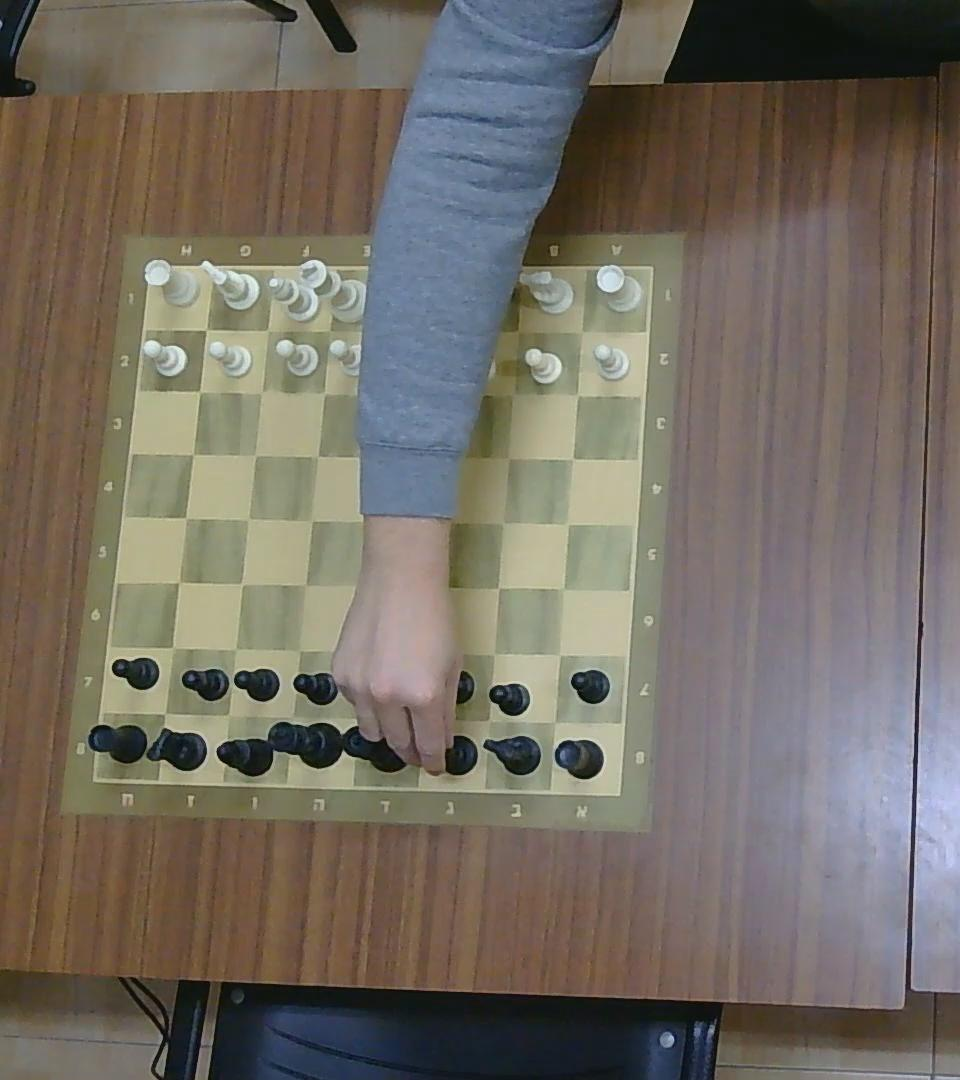xcorner: (336, 711, 367, 743), (438, 314, 466, 346), (151, 698, 180, 728), (370, 322, 403, 348), (357, 505, 386, 534), (410, 709, 439, 738), (285, 635, 313, 664), (568, 316, 596, 345), (423, 505, 451, 534), (418, 572, 446, 601), (363, 442, 391, 471), (366, 380, 394, 409), (476, 706, 504, 734), (416, 640, 443, 669), (563, 379, 590, 407), (215, 699, 241, 728), (353, 572, 379, 601), (354, 640, 380, 669), (542, 708, 569, 735), (550, 573, 576, 601), (228, 568, 254, 596), (480, 640, 506, 668), (432, 441, 458, 469), (556, 508, 581, 537), (317, 314, 342, 343), (222, 633, 247, 662), (193, 314, 218, 343), (160, 633, 185, 662), (558, 445, 584, 472), (311, 377, 336, 405), (444, 378, 468, 407), (406, 378, 430, 407), (235, 504, 260, 531), (305, 442, 330, 469), (547, 641, 572, 668), (256, 315, 281, 342), (166, 568, 191, 595), (505, 317, 530, 344), (250, 377, 274, 405), (242, 440, 266, 467), (496, 443, 520, 470), (491, 509, 515, 536), (293, 570, 317, 597), (486, 573, 510, 600), (502, 379, 526, 406), (180, 439, 204, 465), (174, 503, 197, 529), (300, 507, 323, 532), (187, 377, 210, 402), (289, 716, 310, 736)
